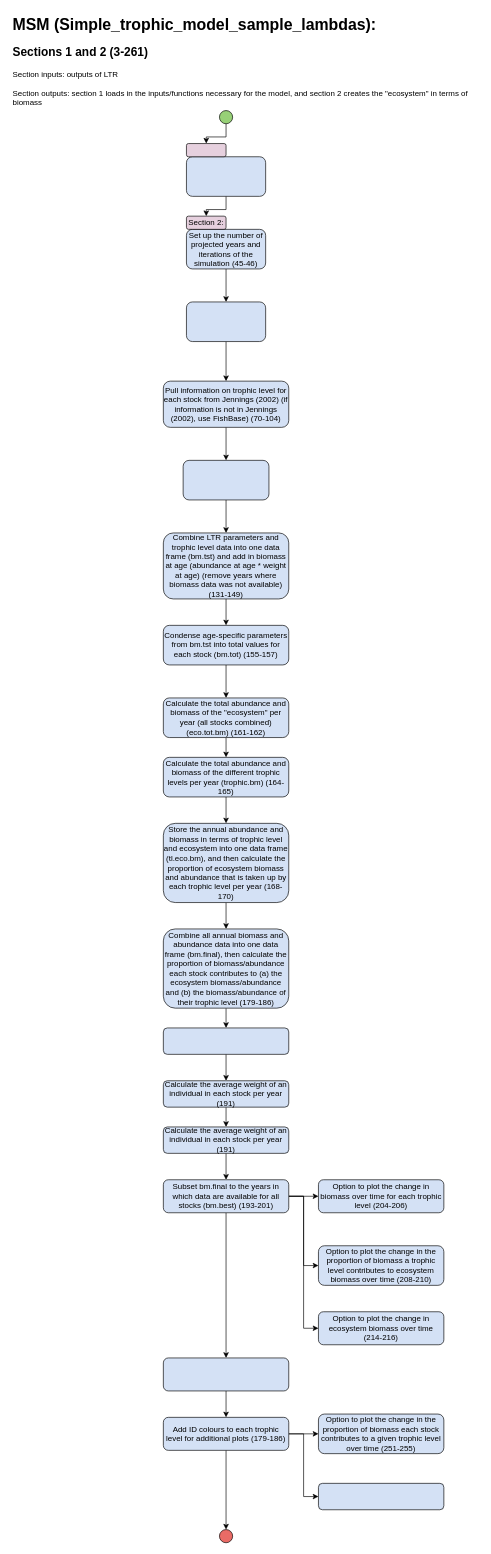
Image size: 491x1554. Some labels were removed from this diagram. The centre of each missing label's shape, as x and y in pixels:
Calculate the transfer efficiencies between trophic levels (219-222): the point at 226,1374
Isolate North Sea stocks from LTR output data (65-68): the point at 226,321
Isolate parameters for stocks of interest from LTR outputs (108-128): the point at 225,480
Load required packages, function and LTR output file (4-39): the point at 226,176
Option to plot how biomass in each stock changes over time (257-261): the point at 381,1496
Remove any 0s from the data (187-189): the point at 226,1040
Section 1:: the point at 206,150
